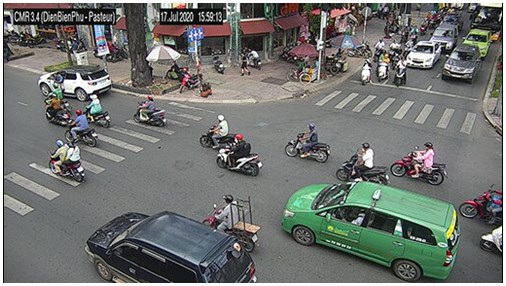di_bo: (239, 53, 250, 76)
xe_hoi: (84, 211, 256, 283), (38, 66, 112, 101), (442, 44, 480, 82), (406, 40, 441, 68), (464, 28, 491, 58), (431, 23, 456, 49), (445, 14, 464, 30)
xe_may: (203, 195, 257, 252), (390, 142, 448, 185), (336, 142, 390, 184), (216, 133, 262, 176), (285, 123, 331, 164), (458, 183, 502, 223), (48, 139, 86, 182), (65, 109, 98, 148), (200, 115, 235, 148), (134, 94, 166, 127), (84, 93, 110, 127), (45, 93, 69, 126), (44, 82, 69, 109), (180, 72, 202, 93), (377, 52, 390, 84), (394, 56, 406, 87), (360, 58, 371, 86), (373, 38, 384, 59), (390, 39, 400, 61), (404, 38, 412, 56)
xe_taxi: (281, 182, 458, 281)
